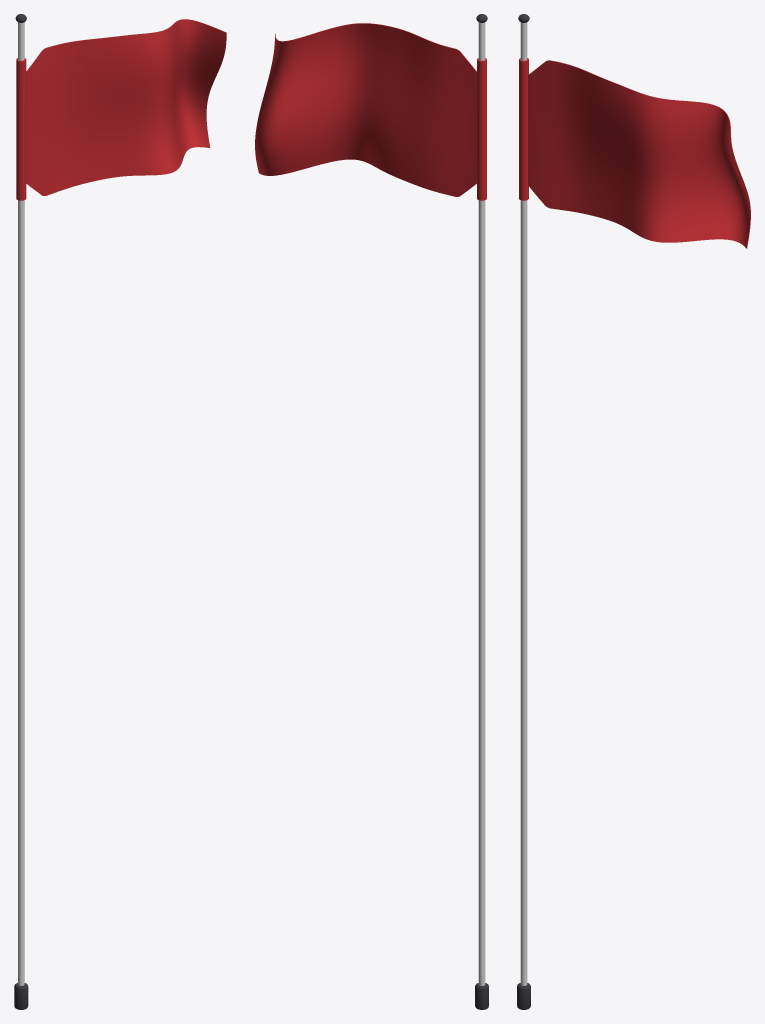
The model's file is flagstick.fbx.
The picture shows the model from 3 angles, left to right: view 1: azimuth 30°, elevation 25°; view 2: azimuth 150°, elevation 25°; view 3: azimuth 330°, elevation 25°; orthographic projection.
Parts seen in each view (by area): view 1: Flagstick; view 2: Flagstick; view 3: Flagstick.
Boxes of the visible parts, <box> form: Flagstick: <box>14,14,226,1009</box>; Flagstick: <box>255,14,488,1009</box>; Flagstick: <box>517,14,750,1009</box>.
Size of the model in its own units: 48.01 by 215 by 13.77.
